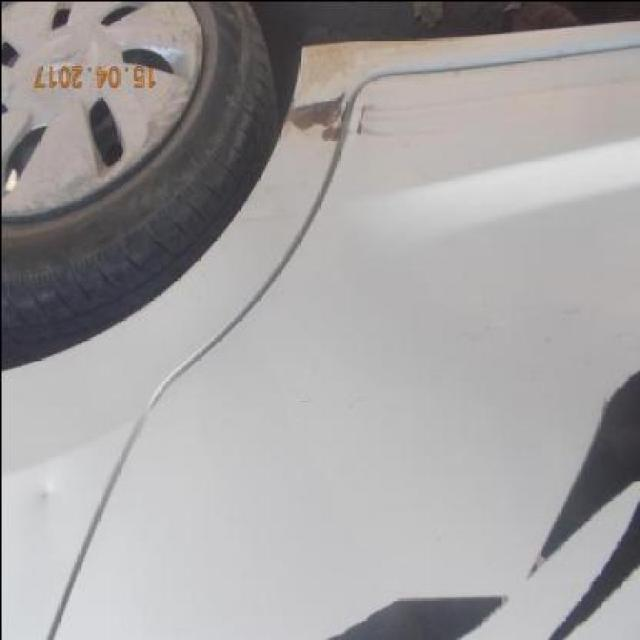damage: (349, 68, 639, 142), (290, 84, 339, 142), (23, 469, 63, 513)
